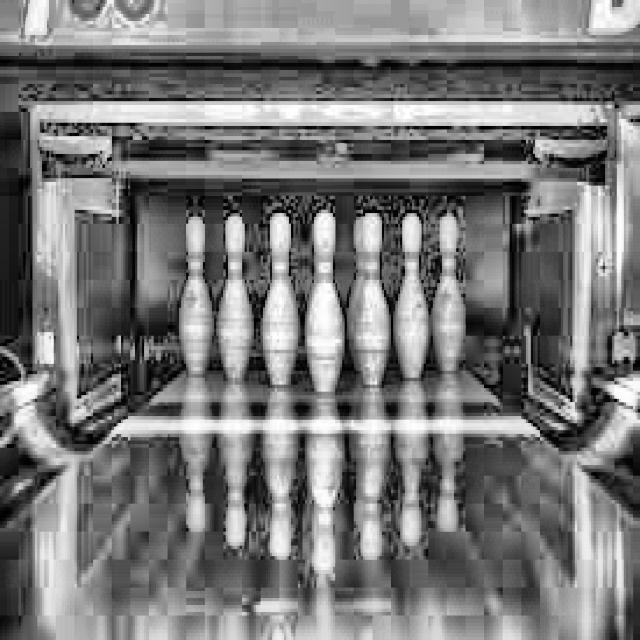bowling-pins: (307, 213, 347, 393), (263, 213, 300, 386), (356, 212, 391, 388), (396, 213, 431, 379), (219, 217, 254, 379), (433, 219, 465, 372), (182, 217, 212, 378), (349, 217, 362, 369)
